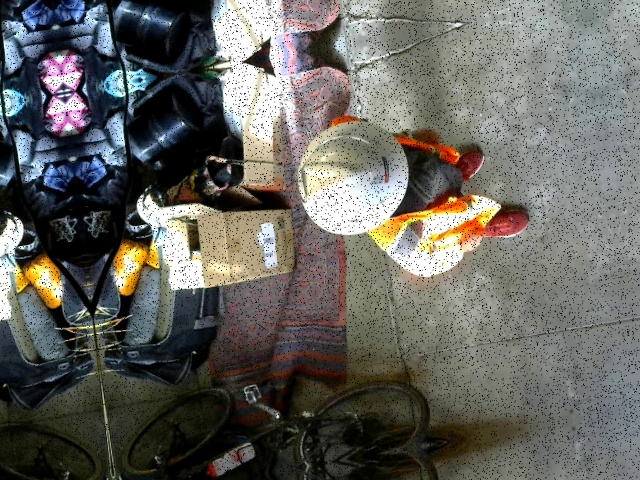one: (292, 166, 307, 203)
